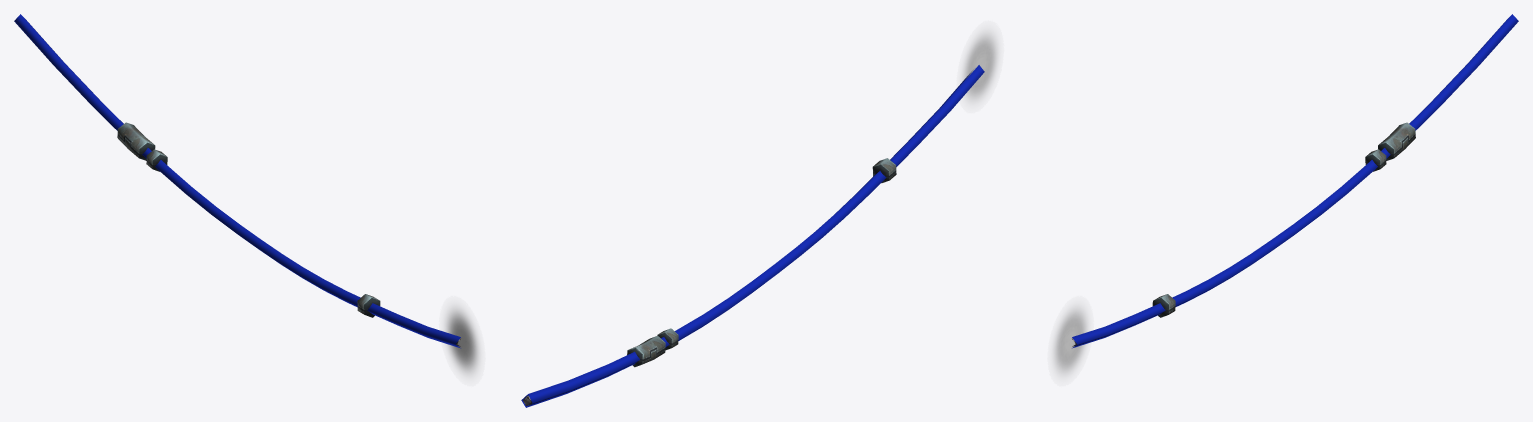
The picture shows the model from 3 angles, left to right: view 1: azimuth 30°, elevation 25°; view 2: azimuth 150°, elevation 25°; view 3: azimuth 330°, elevation 25°; orthographic projection. The views are drawn at different scales.
Size of the model in its own units: 0.2993 by 1.99 by 15.15.
Materials: 3 (3 with a texture image).
